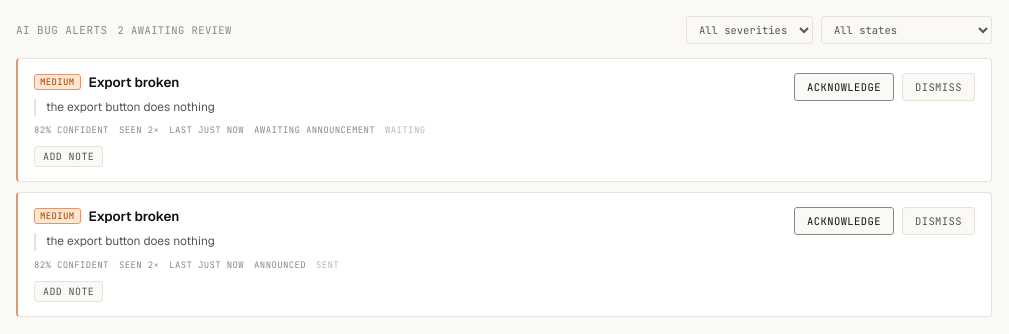
Test: BugAlertsPage › filters by state
This screenshot has width=1009, height=334.
Select "Announced" in the dropdown named "Filter by state" at {"x": 906, "y": 30}, box [821,16,992,44]
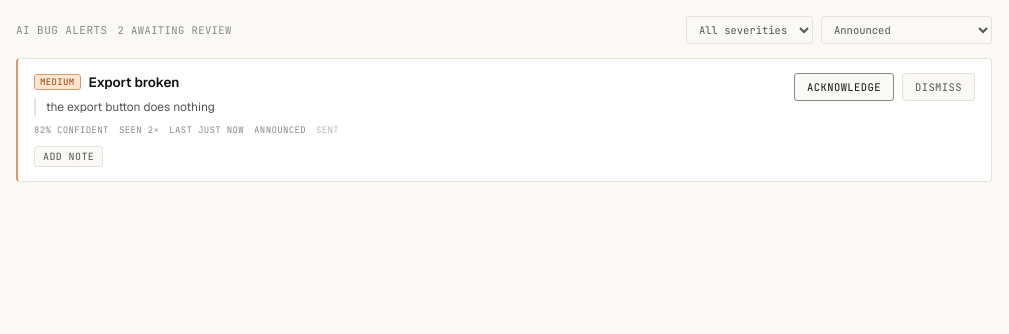
Expected: the list item shows "sent", [316,124,339,136]
Now the number of list items is 1, box [16,58,992,182]
